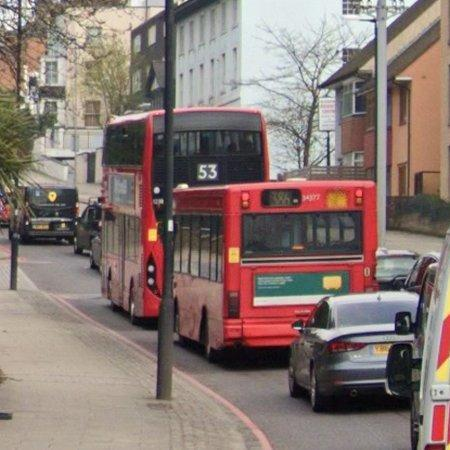buses: (175, 182, 378, 356), (102, 110, 164, 318), (174, 109, 269, 186)
